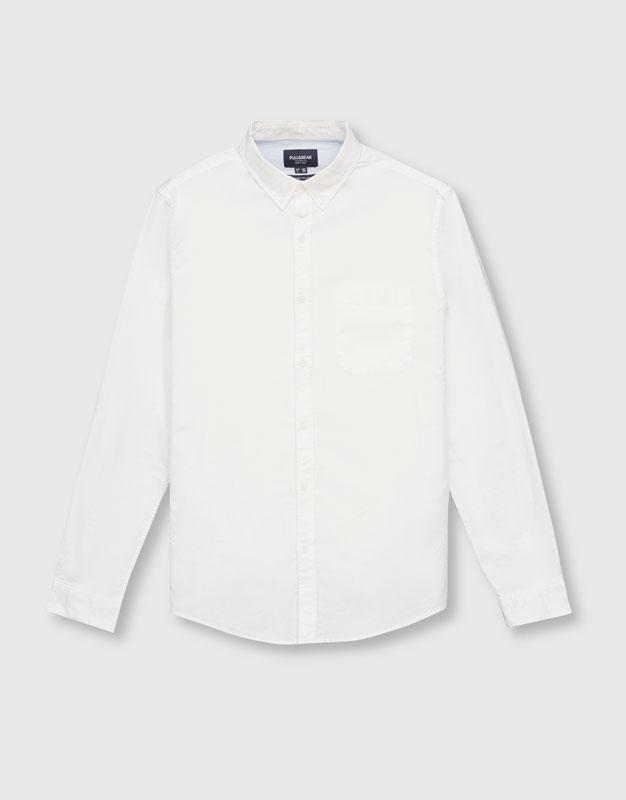teeshirt: (72, 114, 574, 670)
